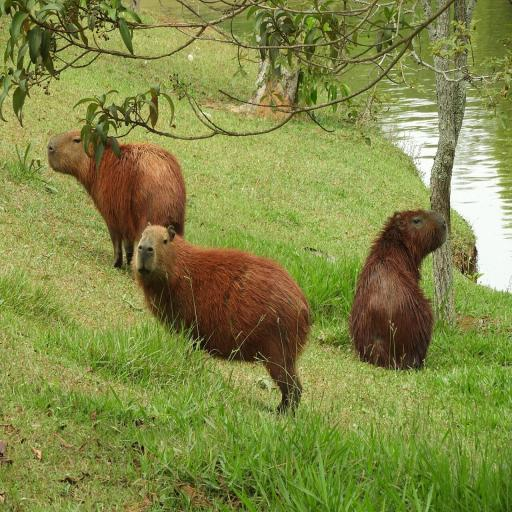capybara: (132, 226, 310, 412), (48, 131, 185, 267), (350, 210, 446, 368)
